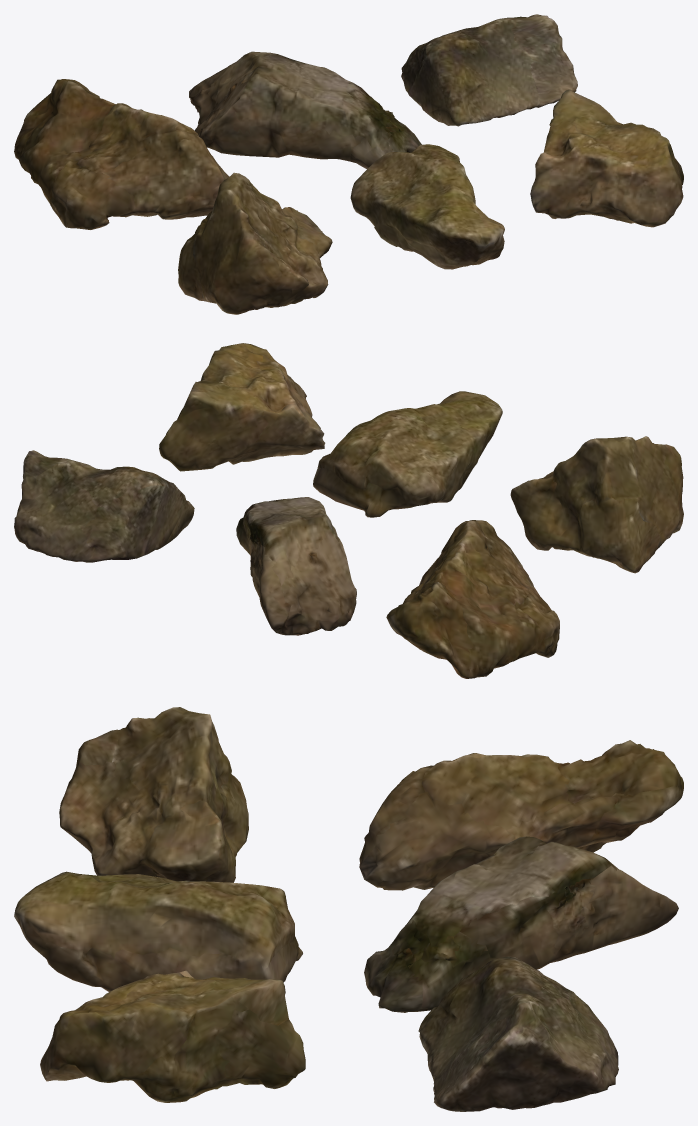
File: rock_moss.glb
3 renders of one model, top to bottom at view 1: azimuth 30°, elevation 25°; view 2: azimuth 150°, elevation 25°; view 3: azimuth 270°, elevation 25°, orthographic. The views are drawn at different scales.
Visible parts, largest first — view 1: rock_moss_set_01_rock01, rock_moss_set_01_rock02, rock_moss_set_01_rock06, rock_moss_set_01_rock04, rock_moss_set_01_rock03, rock_moss_set_01_rock05; view 2: rock_moss_set_01_rock04, rock_moss_set_01_rock01, rock_moss_set_01_rock05, rock_moss_set_01_rock03, rock_moss_set_01_rock06, rock_moss_set_01_rock02; view 3: rock_moss_set_01_rock01, rock_moss_set_01_rock02, rock_moss_set_01_rock05, rock_moss_set_01_rock04, rock_moss_set_01_rock06, rock_moss_set_01_rock03.
Part boxes in pixels (box(x1,y1,x2,y2)): rock_moss_set_01_rock01: box(14, 79, 229, 229); rock_moss_set_01_rock02: box(189, 51, 421, 168); rock_moss_set_01_rock06: box(530, 89, 683, 227); rock_moss_set_01_rock04: box(178, 172, 332, 314); rock_moss_set_01_rock03: box(401, 14, 577, 126); rock_moss_set_01_rock05: box(350, 144, 504, 269); rock_moss_set_01_rock04: box(510, 436, 683, 573); rock_moss_set_01_rock01: box(386, 520, 559, 678); rock_moss_set_01_rock05: box(313, 391, 502, 517); rock_moss_set_01_rock03: box(14, 450, 194, 562); rock_moss_set_01_rock06: box(159, 343, 325, 471); rock_moss_set_01_rock02: box(236, 497, 356, 635); rock_moss_set_01_rock01: box(359, 740, 683, 890); rock_moss_set_01_rock02: box(364, 836, 678, 1012); rock_moss_set_01_rock05: box(14, 871, 302, 991); rock_moss_set_01_rock04: box(59, 707, 248, 882); rock_moss_set_01_rock06: box(40, 970, 305, 1102); rock_moss_set_01_rock03: box(418, 956, 618, 1111).
Bounding box in the file's own units: 8 × 1.76 × 6.94.
Materials: 1 (1 with a texture image).
